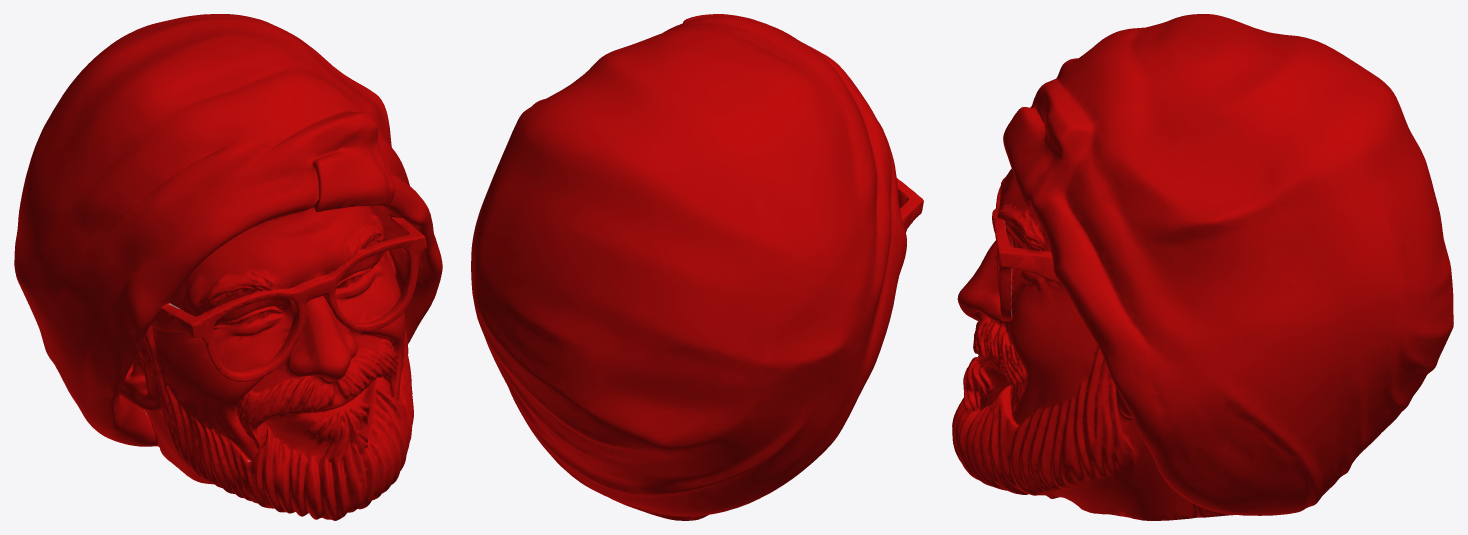
Rendered from Joe_Head.glb.
3 views of the same model, side by side, from view 1: azimuth 30°, elevation 25°; view 2: azimuth 150°, elevation 25°; view 3: azimuth 270°, elevation 25° (orthographic). The views are drawn at different scales.
Bounding box in the file's own units: 1.27 × 1.45 × 1.45.
